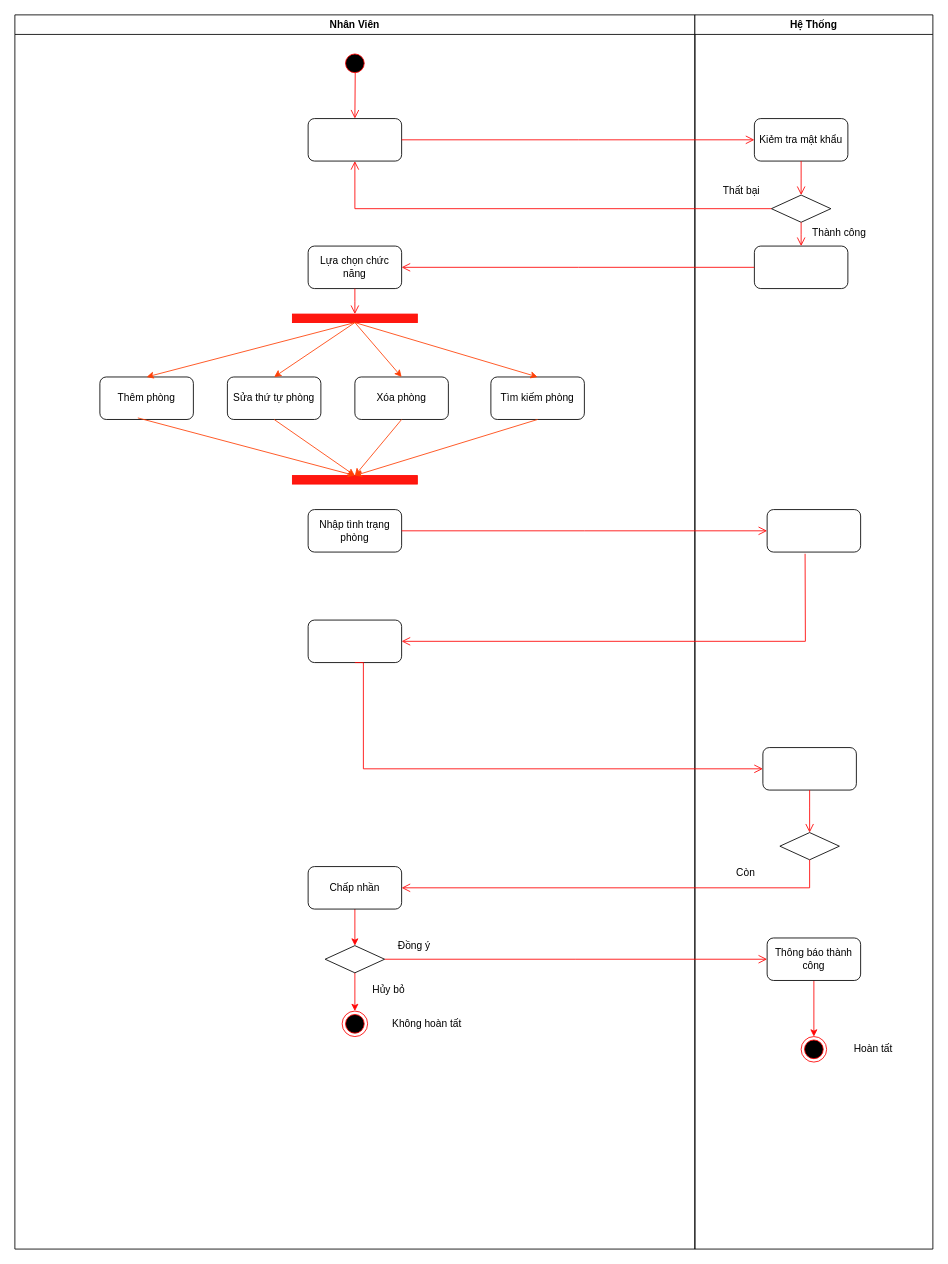
The diagram is 948 pixels wide and 1264 high, and some of its shapes have lost their labels. The centre of each missing label's shape, as x and y in pixels:
"Cung cấp thông tin phản hồi" goes at (x=813, y=530).
"Hiển thị danh sách phòng" goes at (x=801, y=267).
"Hiển thị thông tin phòng vừa cạp nhật" goes at (x=809, y=768).
"Lưu thông tin" goes at (x=354, y=641).
"Đăng nhập" goes at (x=354, y=139).
